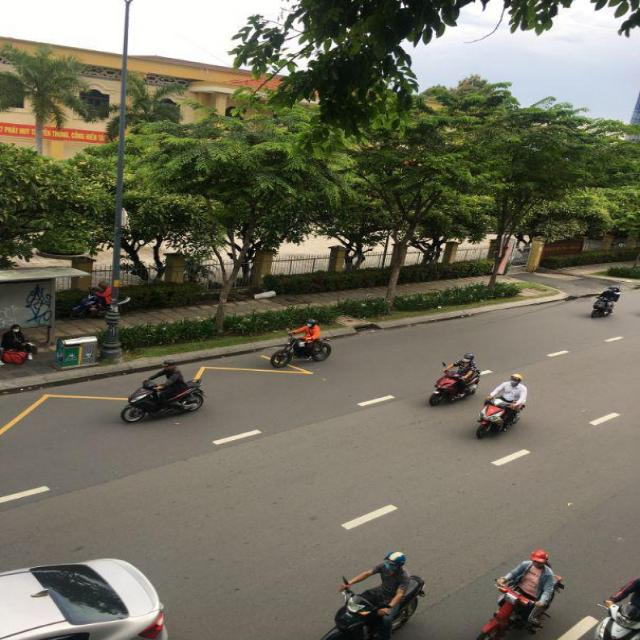car: (0, 558, 167, 640)
motorcycle: (475, 555, 566, 639), (322, 581, 397, 639), (120, 375, 206, 425), (272, 329, 331, 367), (474, 398, 525, 437), (429, 371, 480, 406), (591, 287, 619, 317)
